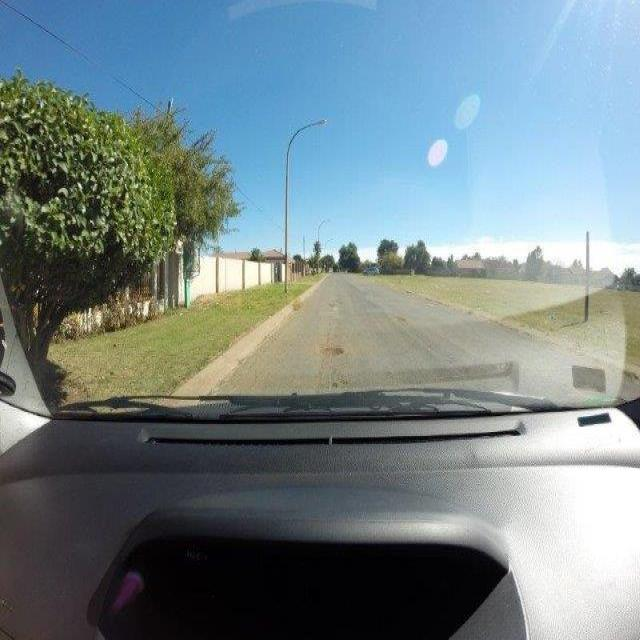lubang: (320, 341, 346, 360)
